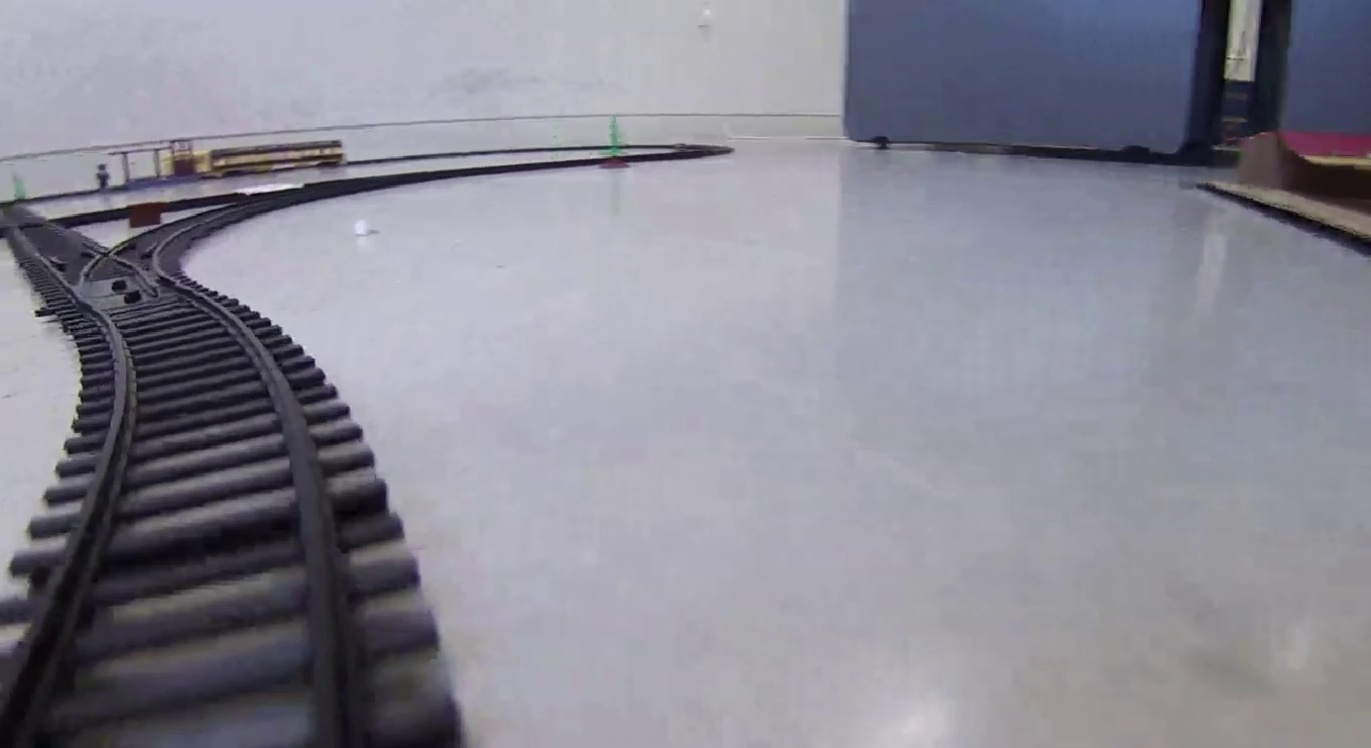box: (128, 202, 163, 223)
